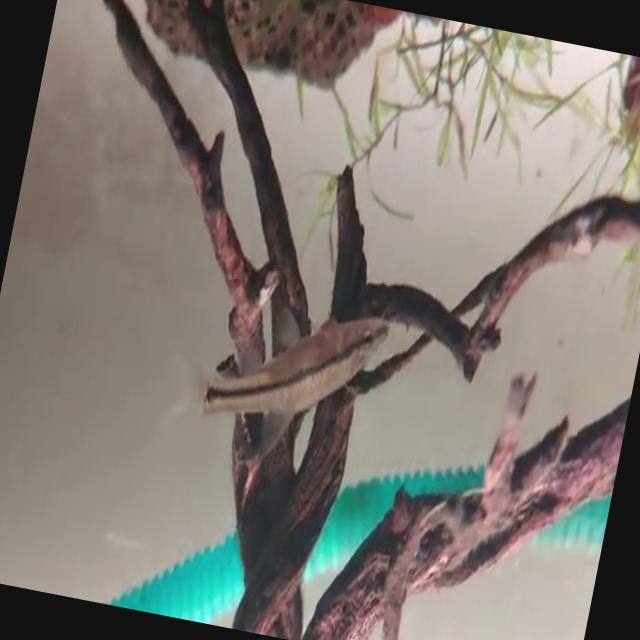Cakil Baligi: (160, 272, 394, 473)
